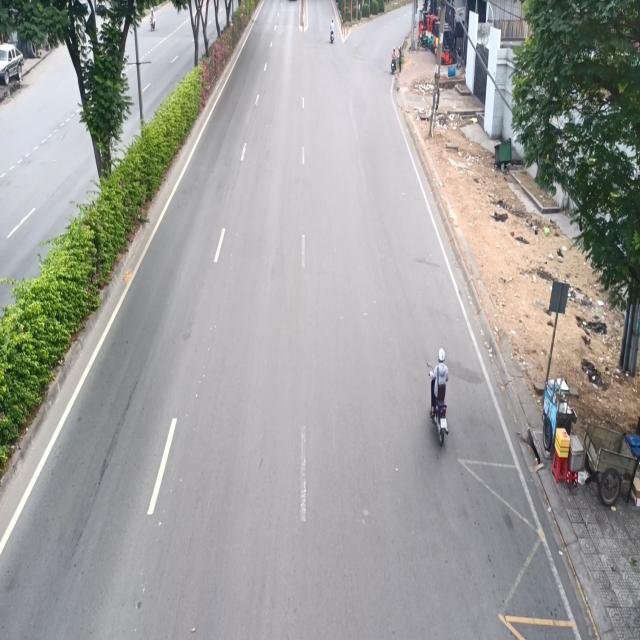motor: (428, 339, 452, 450)
